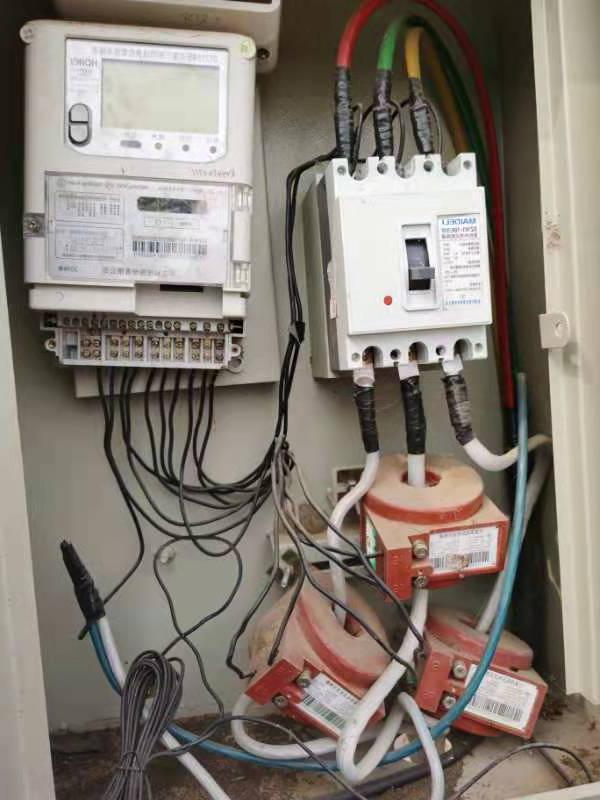digital: (22, 20, 257, 292)
